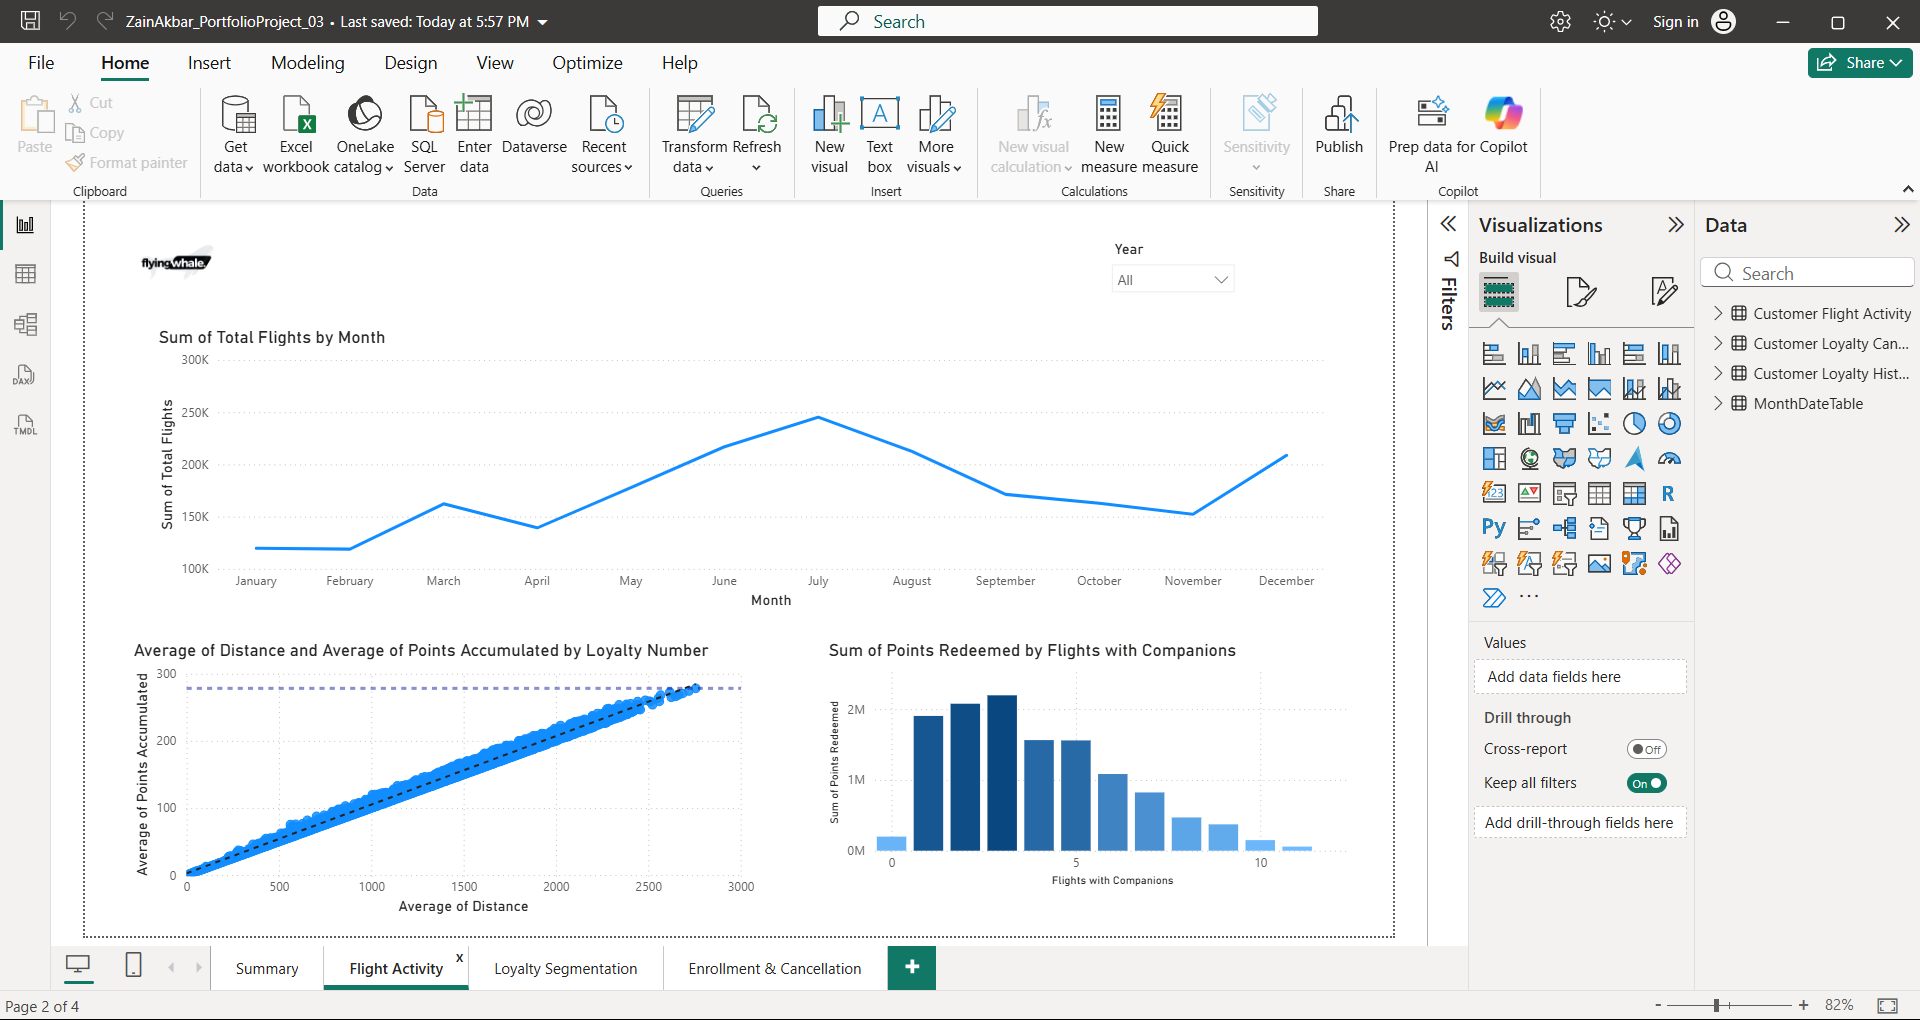

The page's visual inventory and layout, read from the dashboard file:
{"tool":"powerbi","page":{"name":"Flight Activity","canvas":[1280,720],"ordinal":1},"visuals":[{"type":"lineChart","fields":{"Y":["Sum(Customer Flight Activity.Total Flights)"],"Category":["MonthDateTable.Month Name"]},"box":[67.4,123.1,1150.1,281.3],"z":0},{"type":"scatterChart","fields":{"X":["Avg(Customer Flight Activity.Distance)"],"Category":["Customer Flight Activity.Loyalty Number"],"Y":["Avg(Customer Flight Activity.Points Accumulated)"]},"box":[42.5,430.7,616.8,274],"z":1000},{"type":"columnChart","fields":{"Y":["Sum(Customer Flight Activity.Points Redeemed)"],"Category":["Customer Flight Activity.Flights with Companions"]},"box":[722.3,430.7,520.1,246.1],"z":2000},{"type":"slicer","fields":{"Values":["Customer Flight Activity.Year"]},"box":[994.3,34.3,140,70],"z":3000},{"type":"image","box":[0,0,180,122.5],"z":3001}]}

Visuals, with their boxes on the page's 1280x720 design canvas (x1, y1, x2, y2). These are canvas units, not pixel positions in the 1920x1020 screenshot, which may show the page scaled, cropped or inside an application window:
lineChart - Sum(Customer Flight Activity.Total Flights) x MonthDateTable.Month Name: left=67, top=123, right=1218, bottom=404
scatterChart - Avg(Customer Flight Activity.Distance) x Customer Flight Activity.Loyalty Number: left=42, top=431, right=659, bottom=705
columnChart - Sum(Customer Flight Activity.Points Redeemed) x Customer Flight Activity.Flights with Companions: left=722, top=431, right=1242, bottom=677
slicer - Customer Flight Activity.Year: left=994, top=34, right=1134, bottom=104
image: left=0, top=0, right=180, bottom=122
